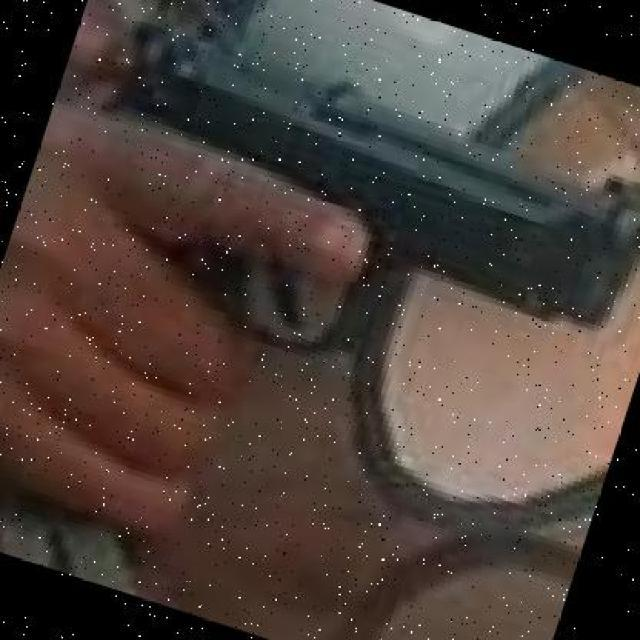rifle: (103, 0, 640, 333)
